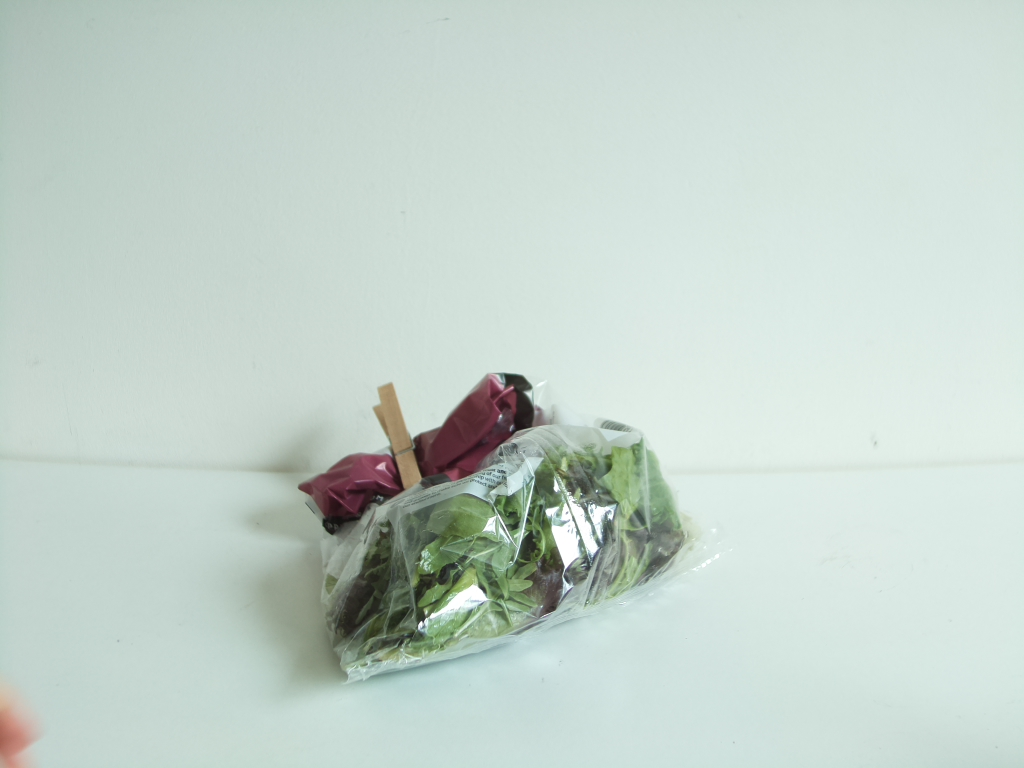salad: (305, 370, 710, 680)
